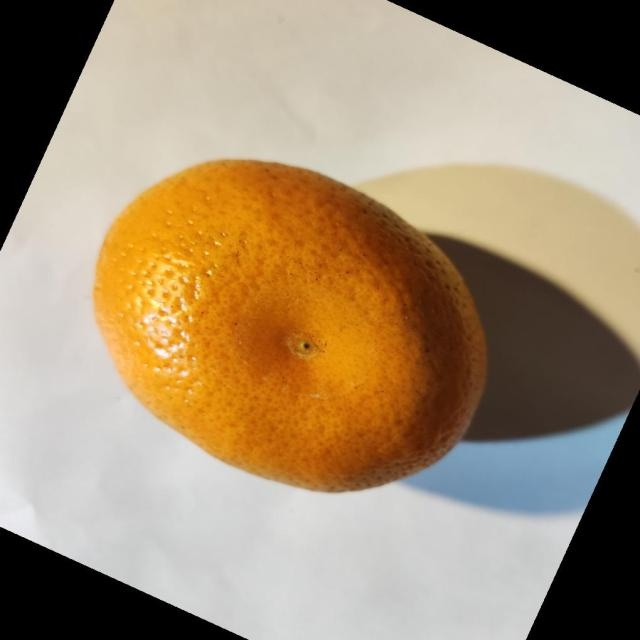agrume: (91, 156, 489, 494)
